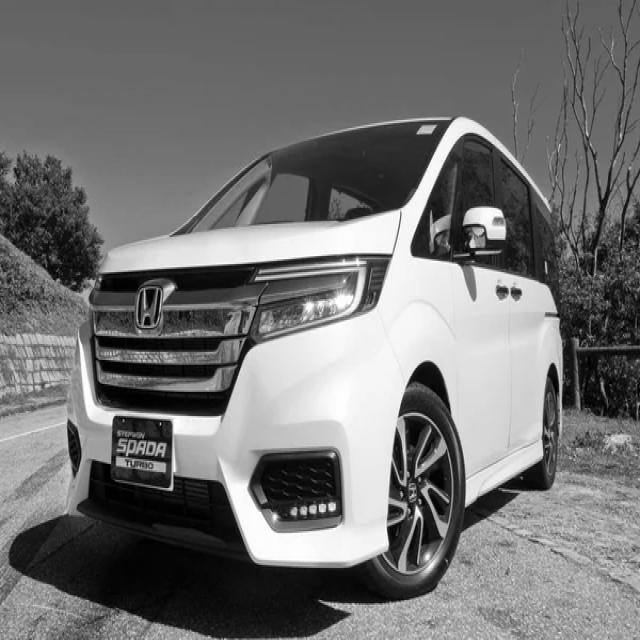Car: (62, 117, 564, 599)
